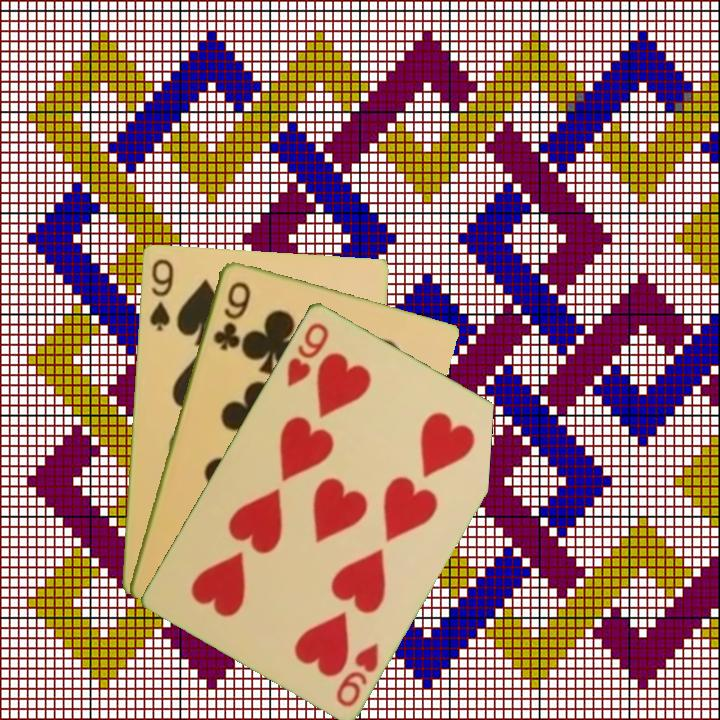9c: (209, 277, 253, 353)
9h: (332, 638, 382, 710), (283, 318, 332, 389)
9s: (146, 255, 176, 334)
